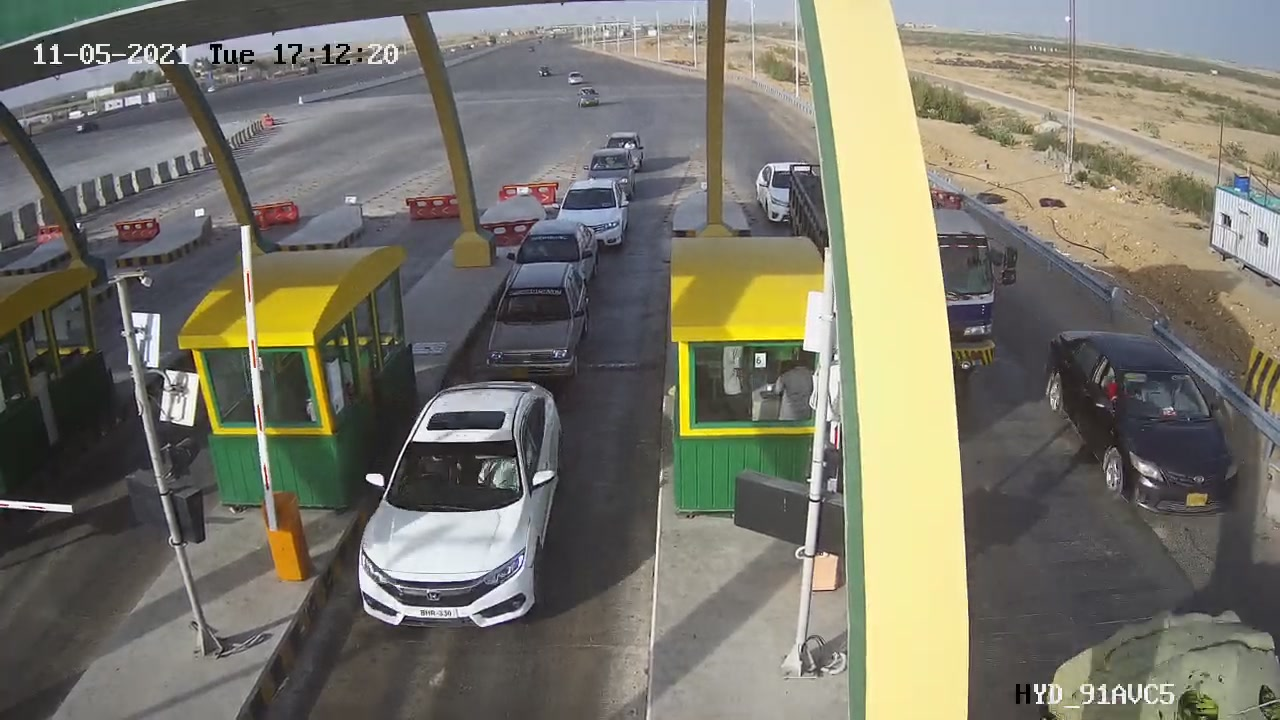F1: (326, 370, 587, 644), (470, 252, 609, 383)
